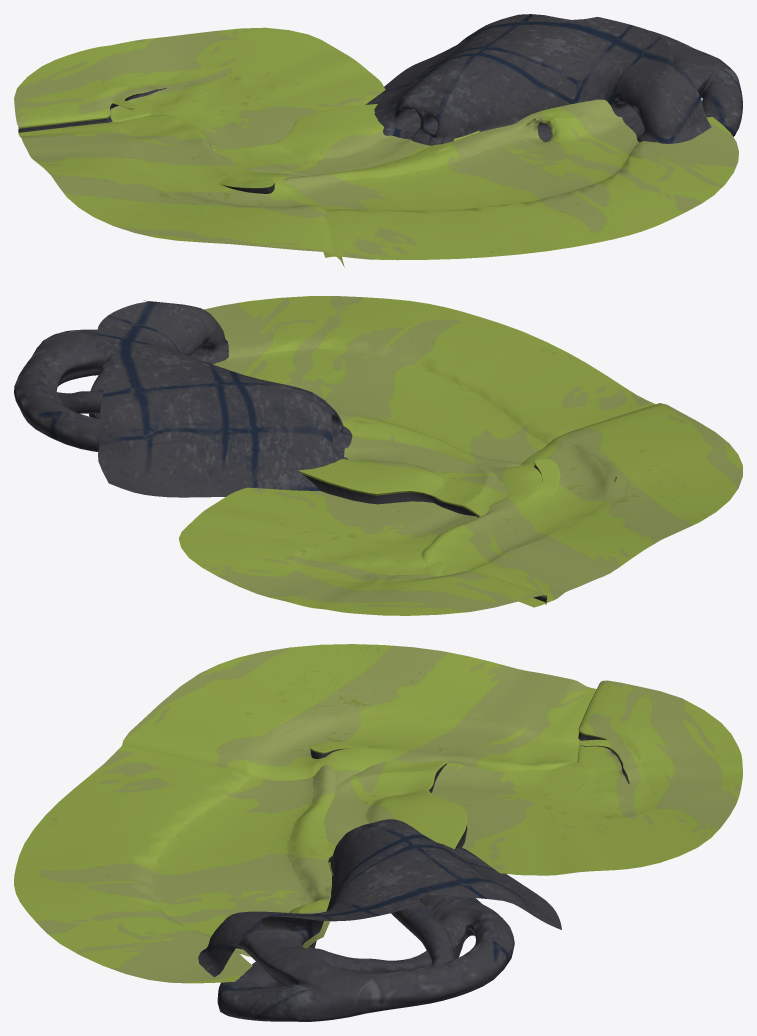
File: terrain_uv_02.obj
The picture shows the model from 3 angles, top to bottom: view 1: azimuth 30°, elevation 25°; view 2: azimuth 150°, elevation 25°; view 3: azimuth 270°, elevation 25°; orthographic projection. The views are drawn at different scales.
Visible parts, largest first — view 1: uv_desert_03, uv_desert_03.001, uv_start39, uv_half_pipe_02.001, uv_desert_03.002, uv_half_pipe_02, uv_finish_part_01.001, uv_start39.002, uv_finish_part_01, uv_start39.001, uv_ramp_01.001; view 2: uv_desert_03, uv_desert_03.001, uv_half_pipe_02.001, uv_start39, uv_desert_03.002, uv_half_pipe_02, uv_start39.002, uv_finish_part_01.001, uv_finish_part_01, uv_finish_part_01.002, uv_ramp_01.001; view 3: uv_desert_03, uv_desert_03.001, uv_half_pipe_02.001, uv_start39, uv_desert_03.002, uv_half_pipe_02, uv_start39.002, uv_finish_part_01.001, uv_finish_part_01.
Part boxes in pixels (x1,y1,x2,y2): uv_desert_03: (365, 14, 742, 145); uv_desert_03.001: (283, 99, 738, 260); uv_start39: (14, 27, 385, 150); uv_half_pipe_02.001: (18, 114, 344, 267); uv_desert_03.002: (299, 111, 638, 210); uv_half_pipe_02: (115, 115, 320, 207); uv_finish_part_01.001: (214, 104, 431, 176); uv_start39.002: (110, 68, 268, 148); uv_finish_part_01: (239, 135, 411, 174); uv_start39.001: (18, 87, 166, 132); uv_ramp_01.001: (219, 177, 274, 188); uv_desert_03: (14, 300, 352, 497); uv_desert_03.001: (204, 296, 654, 467); uv_half_pipe_02.001: (421, 403, 742, 607); uv_start39: (178, 487, 547, 615); uv_desert_03.002: (213, 348, 547, 463); uv_half_pipe_02: (426, 439, 609, 574); uv_start39.002: (293, 503, 464, 581); uv_finish_part_01.001: (298, 434, 507, 516); uv_finish_part_01: (344, 446, 487, 507); uv_finish_part_01.002: (303, 474, 478, 517); uv_ramp_01.001: (534, 458, 560, 496); uv_desert_03: (198, 819, 561, 1021); uv_desert_03.001: (14, 745, 336, 983); uv_half_pipe_02.001: (122, 644, 596, 785); uv_start39: (436, 680, 742, 875); uv_desert_03.002: (152, 777, 313, 982); uv_half_pipe_02: (248, 713, 579, 780); uv_start39.002: (432, 739, 656, 817); uv_finish_part_01.001: (324, 760, 467, 851); uv_finish_part_01: (331, 770, 436, 837).
Bounding box in the file's own units: 19882 × 2322 × 17292.
Materials: 3 (3 with a texture image).
